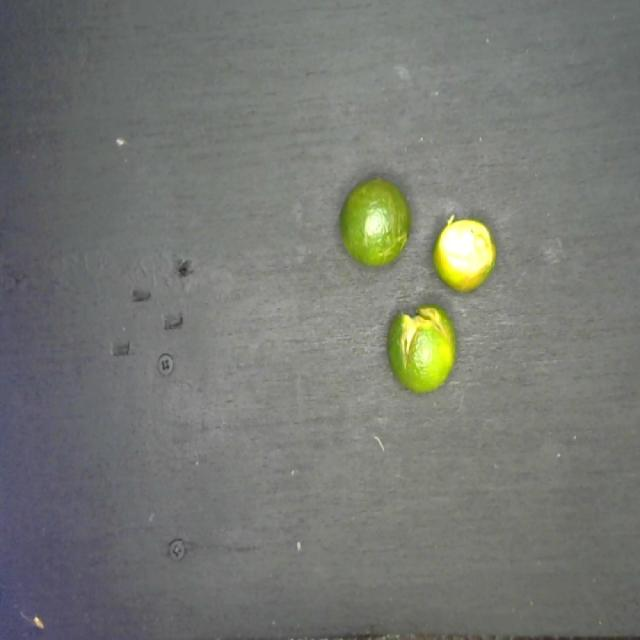biodegradable: (334, 166, 499, 400)
